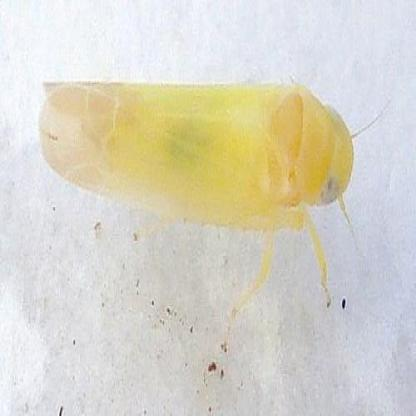green-leafhopper: (37, 80, 352, 353)
